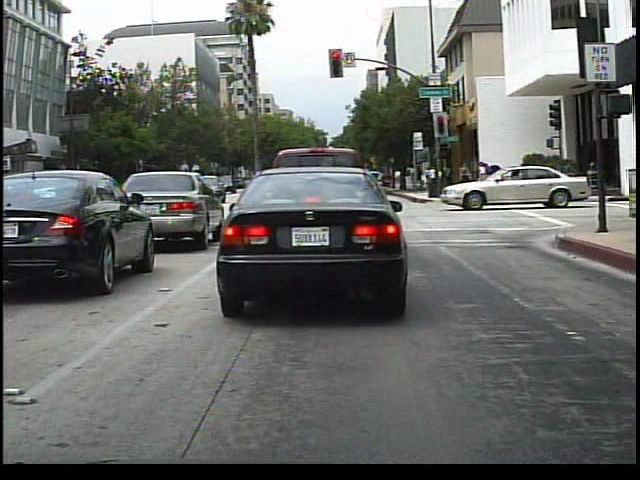person: (482, 155, 508, 200), (457, 159, 475, 198), (475, 158, 492, 195)
